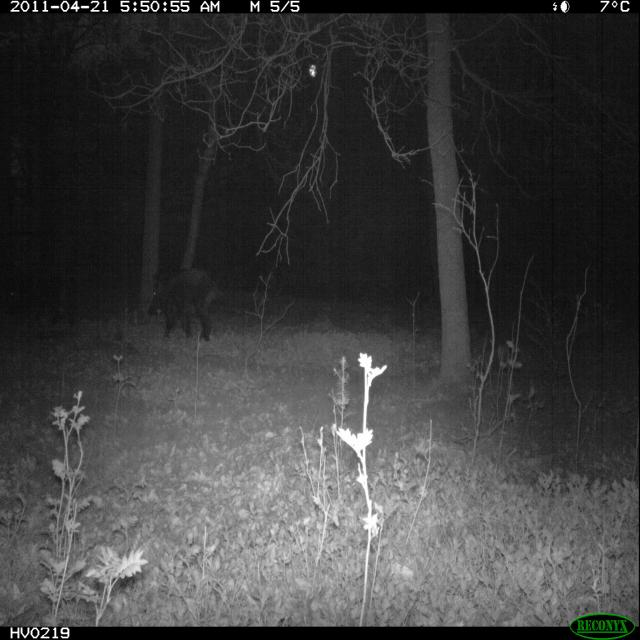boar: (138, 253, 245, 358)
